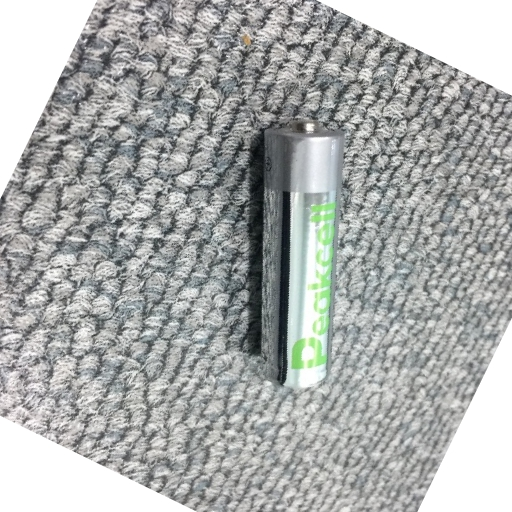Battery_0: (249, 107, 353, 400)
